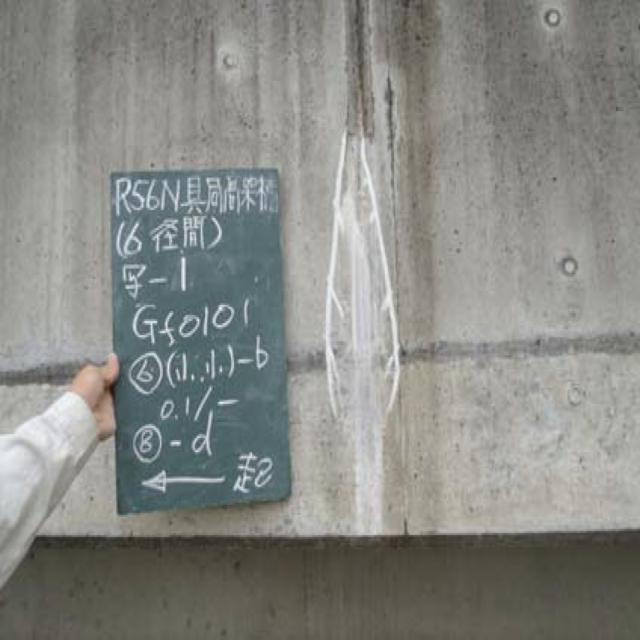freelime: (326, 139, 404, 534)
